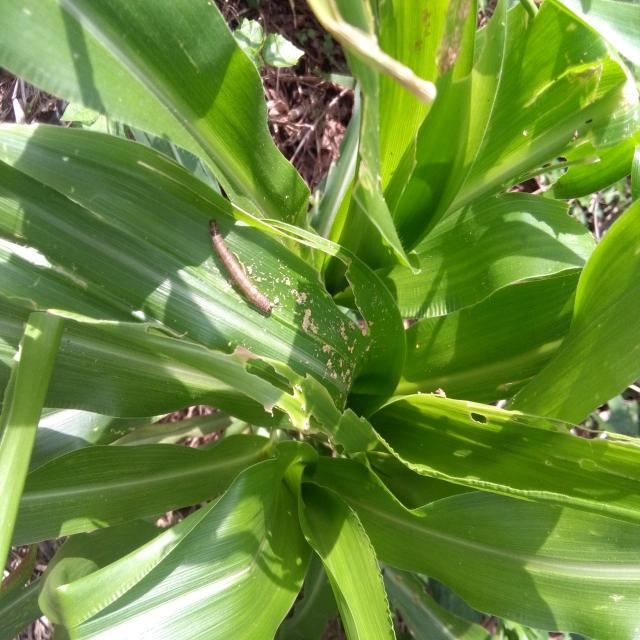yellow-stem-borer-larva: (193, 215, 284, 325)
